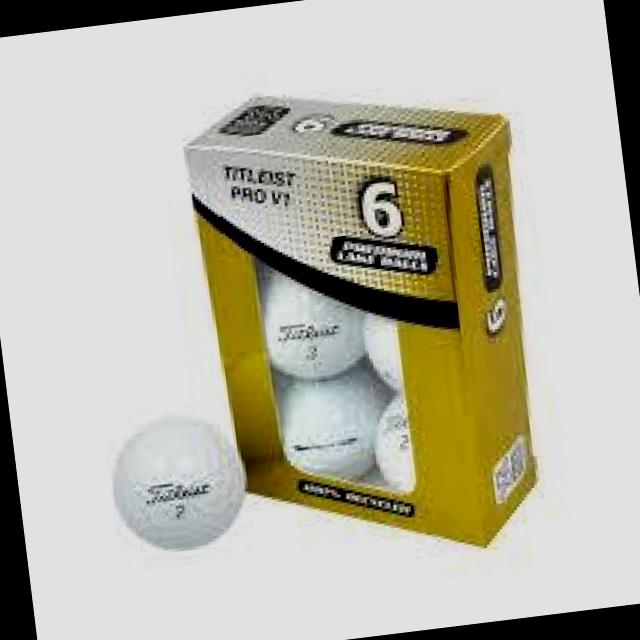ball: (91, 396, 266, 578)
